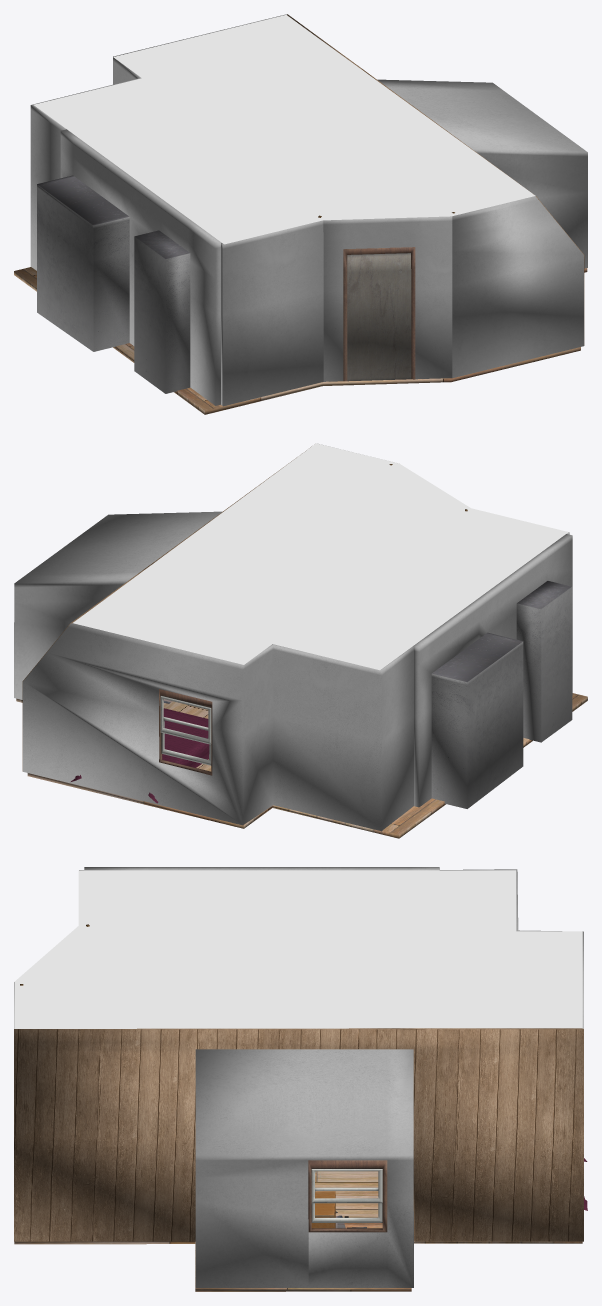
Rendered from cloe_room.glb.
3 renders of one model, top to bottom at view 1: azimuth 30°, elevation 25°; view 2: azimuth 150°, elevation 25°; view 3: azimuth 270°, elevation 25°, orthographic. The views are drawn at different scales.
Parts seen in each view (by area): view 1: roof_Cube.009, 5zena, wall_1_Cube.000, wall_2_Cube.000, window_wall_Cube.000, door_wall_Cube.002, clo_wall_Cube.004, do&win, wall_Cube.000, floor_Cube.001, wood_wall_Cube.000; view 2: roof_Cube.009, wall_Cube.000, 5zena, window_wall_Cube.000, clo_wall_Cube.004, floor_Cube.001, do&win, bed, wood_wall_Cube.000; view 3: roof_Cube.009, wood_wall_Cube.000, window_wall_Cube.000, floor_Cube.001, do&win, clo_wall_Cube.004, desk.
Part boxes in pixels (x1,y1,x2,y2): roof_Cube.009: (33,15,535,244); 5zena: (37,175,190,393); wall_1_Cube.000: (452,196,583,378); wall_2_Cube.000: (221,220,323,406); window_wall_Cube.000: (377,79,587,268); door_wall_Cube.002: (323,216,452,381); clo_wall_Cube.004: (60,129,221,405); do&win: (343,247,415,381); wall_Cube.000: (30,14,286,270); floor_Cube.001: (14,267,587,414); wood_wall_Cube.000: (287,14,584,345); roof_Cube.009: (73,443,568,670); wall_Cube.000: (23,623,413,831); 5zena: (431,581,572,808); window_wall_Cube.000: (14,511,222,699); clo_wall_Cube.004: (413,534,572,807); floor_Cube.001: (16,693,587,838); do&win: (159,689,212,775); bed: (71,708,209,803); wood_wall_Cube.000: (22,446,311,771); roof_Cube.009: (14,870,582,1028); wood_wall_Cube.000: (14,1028,583,1241); window_wall_Cube.000: (195,1049,413,1287); floor_Cube.001: (14,1171,582,1291); do&win: (308,1160,387,1232); clo_wall_Cube.004: (84,867,439,870); desk: (311,1191,335,1228).
Bounding box in the file's own units: 88.61 × 30.88 × 84.06.
20 materials, 18 textured.
